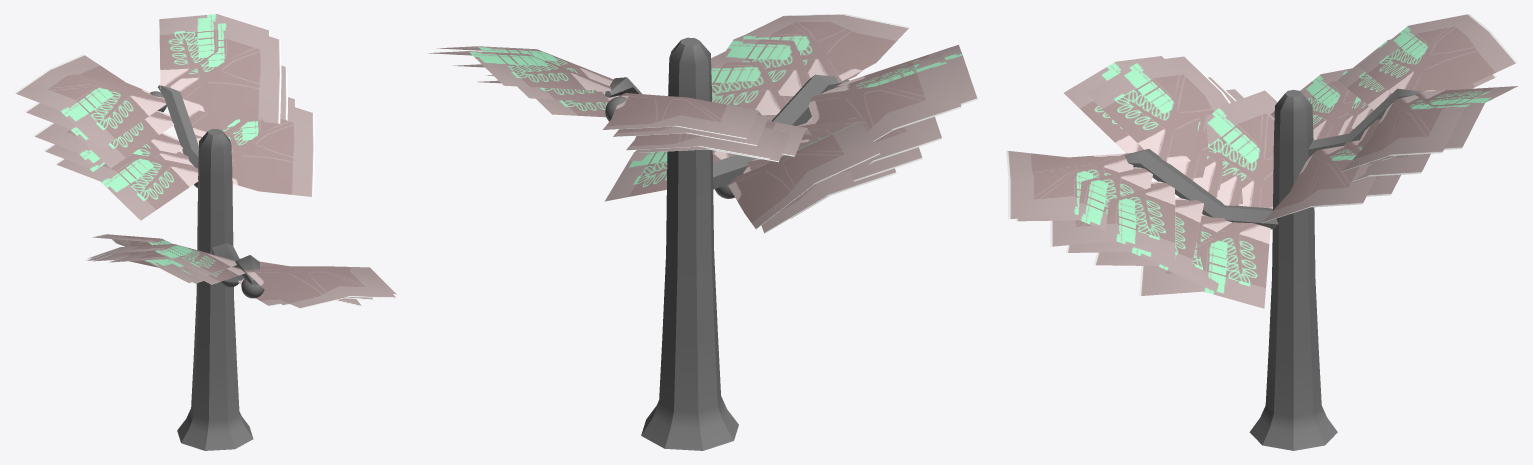
File: Tree_Two.obj
3 renders of one model, left to right at view 1: azimuth 30°, elevation 25°; view 2: azimuth 150°, elevation 25°; view 3: azimuth 270°, elevation 25°, orthographic. The views are drawn at different scales.
Visible parts, largest first — view 1: pCylinder11, Good_Ones pPlane84, pPlane81 Good_Ones, Good_Ones pPlane82, Good_Ones pPlane77, Good_Ones pPlane69, Good_Ones pPlane83, Good_Ones pPlane80, Good_Ones pPlane73, Good_Ones pPlane79, Good_Ones polySurface13 pCylinder9, Good_Ones pPlane85 (+5 smaller); view 2: pCylinder11, Good_Ones pPlane73, Good_Ones pPlane71, Good_Ones pPlane69, pPlane81 Good_Ones, Good_Ones pPlane83, Good_Ones pPlane68, Good_Ones pPlane70, Good_Ones pCylinder9 polySurface16, Good_Ones pPlane74, Good_Ones pPlane79, Good_Ones pPlane76 (+9 smaller); view 3: pCylinder11, Good_Ones pPlane73, pPlane81 Good_Ones, Good_Ones pPlane65, Good_Ones pPlane71, Good_Ones pPlane69, Good_Ones pPlane68, Good_Ones pPlane84, Good_Ones pPlane82, Good_Ones pCylinder9 polySurface16, Good_Ones pPlane70, Good_Ones pPlane67 (+11 smaller).
Boxes of the visible parts, bbox=[...] form: pCylinder11: bbox=[177, 129, 253, 450]; Good_Ones pPlane84: bbox=[170, 23, 281, 123]; pPlane81 Good_Ones: bbox=[15, 54, 166, 149]; Good_Ones pPlane82: bbox=[228, 105, 315, 197]; Good_Ones pPlane77: bbox=[55, 153, 198, 220]; Good_Ones pPlane69: bbox=[244, 269, 396, 308]; Good_Ones pPlane83: bbox=[159, 14, 270, 92]; Good_Ones pPlane80: bbox=[25, 102, 174, 168]; Good_Ones pPlane73: bbox=[100, 244, 236, 275]; Good_Ones pPlane79: bbox=[33, 123, 182, 165]; Good_Ones polySurface13 pCylinder9: bbox=[158, 85, 198, 168]; Good_Ones pPlane85: bbox=[185, 65, 287, 136]; pCylinder11: bbox=[641, 37, 738, 450]; Good_Ones pPlane73: bbox=[808, 52, 961, 141]; Good_Ones pPlane71: bbox=[728, 121, 880, 229]; Good_Ones pPlane69: bbox=[743, 14, 909, 82]; pPlane81 Good_Ones: bbox=[602, 93, 761, 139]; Good_Ones pPlane83: bbox=[428, 51, 622, 91]; Good_Ones pPlane68: bbox=[711, 51, 793, 115]; Good_Ones pPlane70: bbox=[718, 35, 862, 96]; Good_Ones pCylinder9 polySurface16: bbox=[713, 74, 849, 189]; Good_Ones pPlane74: bbox=[797, 116, 942, 164]; Good_Ones pPlane79: bbox=[626, 127, 783, 159]; Good_Ones pPlane76: bbox=[743, 154, 896, 233]; pCylinder11: bbox=[1249, 90, 1337, 450]; Good_Ones pPlane73: bbox=[1086, 56, 1230, 164]; pPlane81 Good_Ones: bbox=[1358, 14, 1517, 93]; Good_Ones pPlane65: bbox=[1139, 222, 1270, 308]; Good_Ones pPlane71: bbox=[1205, 90, 1278, 208]; Good_Ones pPlane69: bbox=[1006, 150, 1133, 219]; Good_Ones pPlane68: bbox=[1050, 181, 1175, 260]; Good_Ones pPlane84: bbox=[1342, 95, 1470, 171]; Good_Ones pPlane82: bbox=[1262, 146, 1376, 223]; Good_Ones pCylinder9 polySurface16: bbox=[1124, 149, 1278, 229]; Good_Ones pPlane70: bbox=[1015, 167, 1152, 230]; Good_Ones pPlane67: bbox=[1066, 198, 1203, 276].
Bounding box in the file's own units: 3.06 × 3.3 × 4.06.
3 materials, 1 textured.
